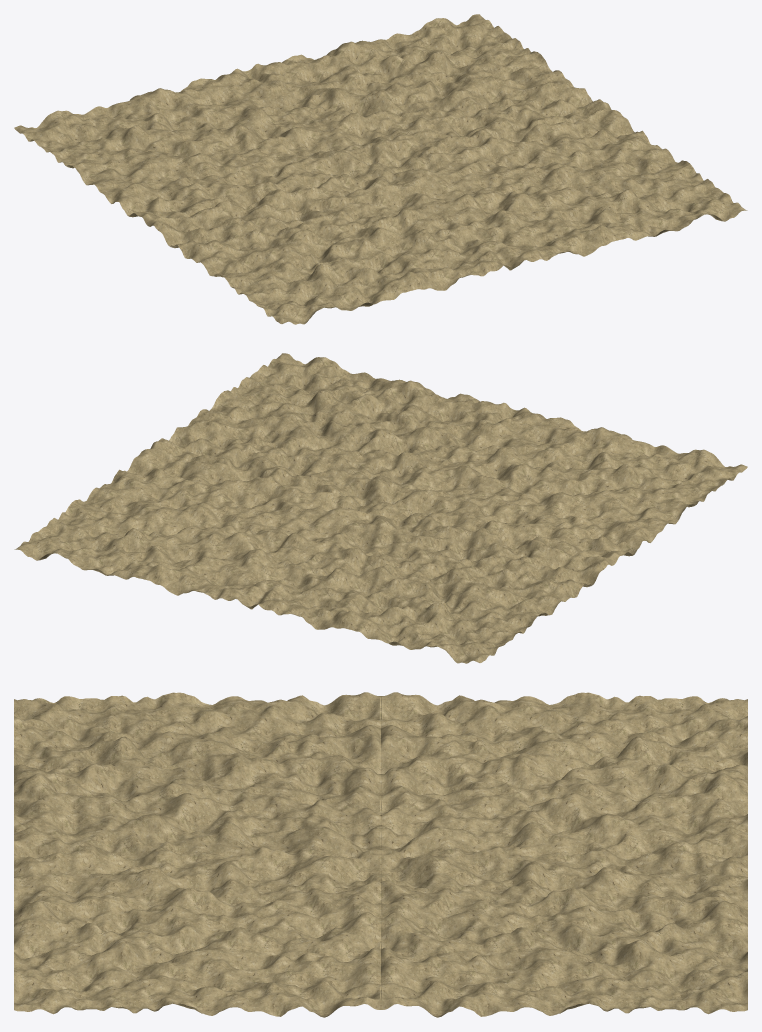
File: DesertGround.fbx
3 views of the same model, one above another, from view 1: azimuth 30°, elevation 25°; view 2: azimuth 150°, elevation 25°; view 3: azimuth 270°, elevation 25° (orthographic). The views are drawn at different scales.
Visible parts, largest first — view 1: Plane; view 2: Plane; view 3: Plane.
Part boxes in pixels (left/top/right/bottom): Plane: left=14, top=14, right=747, bottom=324; Plane: left=14, top=353, right=747, bottom=663; Plane: left=14, top=692, right=747, bottom=1017.
Size of the model in its own units: 4000 by 191 by 3989.
